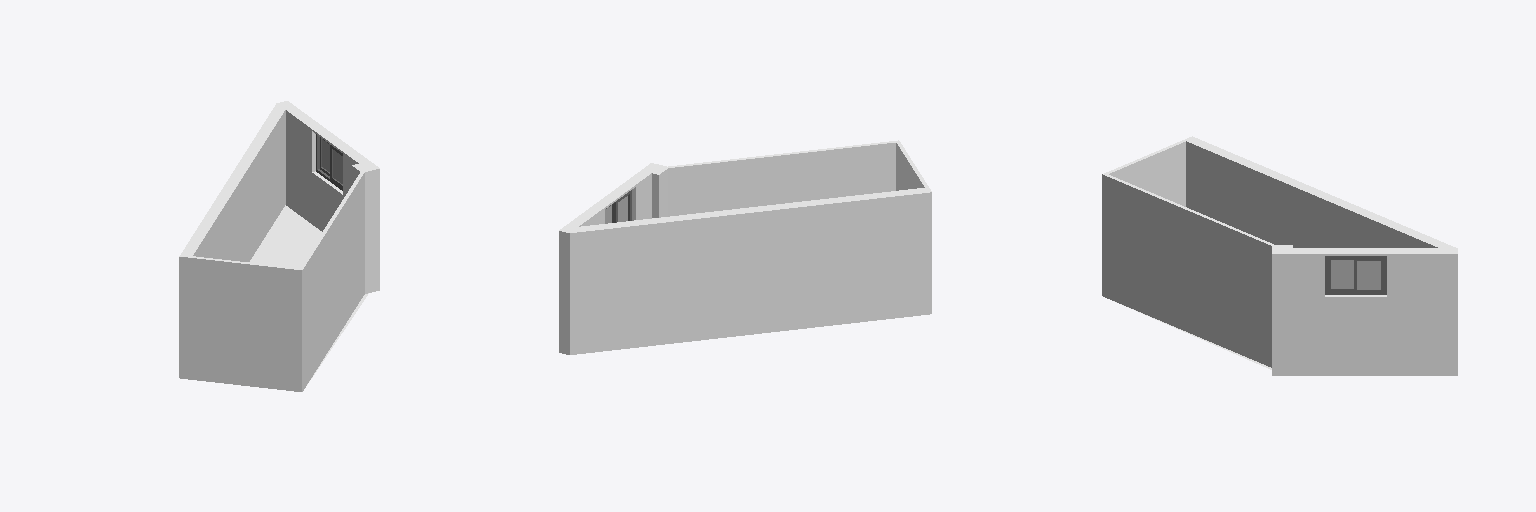
3 views of the same model, side by side, from view 1: azimuth 30°, elevation 25°; view 2: azimuth 150°, elevation 25°; view 3: azimuth 270°, elevation 25° (orthographic).
Parts seen in each view (by area): view 1: Mesh1 Group1 Model, Mesh2 Group2 Model, Mesh12 Group6 Model, Mesh3 Group3 Model, Mesh13 Group7 Model, Mesh4 Group4 Model; view 2: Mesh2 Group2 Model, Mesh3 Group3 Model, Mesh12 Group6 Model, Mesh13 Group7 Model, Mesh1 Group1 Model, Mesh4 Group4 Model; view 3: Mesh13 Group7 Model, Mesh3 Group3 Model, Mesh2 Group2 Model, Mesh12 Group6 Model, Mesh1 Group1 Model, Mesh4 Group4 Model, Mesh10 Glazing3 Window_Sliding_Casement_14_1 Window_Sliding_7_1 , Mesh7 Glazing1 Window_Sliding_Casement_14 Window_Sliding_7_1 Gro.
Part boxes in pixels (x1,y1,x2,y2): Mesh1 Group1 Model: (179, 255, 303, 365); Mesh2 Group2 Model: (181, 103, 285, 261); Mesh12 Group6 Model: (179, 205, 368, 391); Mesh3 Group3 Model: (300, 167, 365, 362); Mesh13 Group7 Model: (277, 101, 379, 292); Mesh4 Group4 Model: (352, 161, 379, 266); Mesh2 Group2 Model: (570, 188, 927, 328); Mesh3 Group3 Model: (657, 141, 895, 216); Mesh12 Group6 Model: (570, 288, 931, 354); Mesh13 Group7 Model: (559, 163, 661, 354); Mesh1 Group1 Model: (896, 140, 931, 287); Mesh4 Group4 Model: (641, 163, 667, 217); Mesh13 Group7 Model: (1272, 248, 1457, 375); Mesh3 Group3 Model: (1105, 174, 1280, 340); Mesh2 Group2 Model: (1186, 138, 1455, 247); Mesh12 Group6 Model: (1102, 270, 1271, 369); Mesh1 Group1 Model: (1102, 136, 1194, 270); Mesh4 Group4 Model: (1272, 245, 1292, 348); Mesh10 Glazing3 Window_Sliding_Casement_14_1 Window_Sliding_7_1 : (1357, 261, 1380, 289); Mesh7 Glazing1 Window_Sliding_Casement_14 Window_Sliding_7_1 Gro: (1331, 260, 1353, 288).
Bounding box in the file's own units: 6.61 × 3.2 × 8.45.